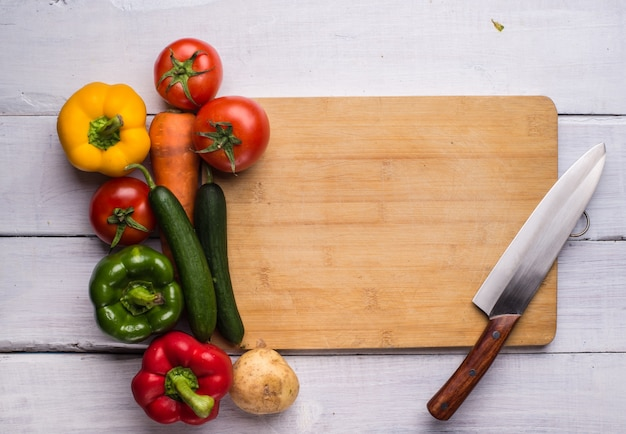knife: (425, 141, 606, 423)
